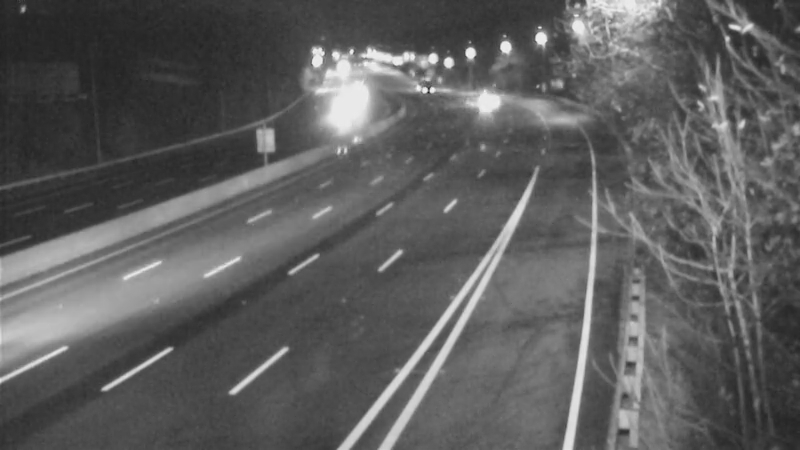vehicle: (393, 59, 443, 109), (464, 73, 514, 123), (316, 84, 366, 134)
